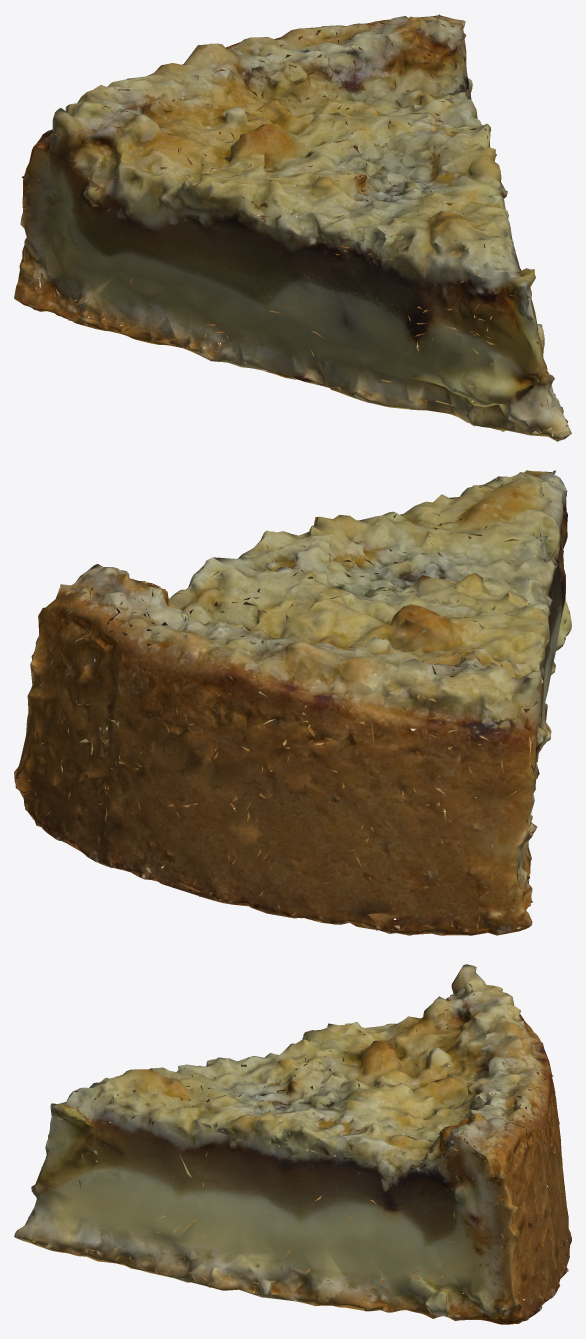
3 renders of one model, top to bottom at view 1: azimuth 30°, elevation 25°; view 2: azimuth 150°, elevation 25°; view 3: azimuth 270°, elevation 25°, orthographic. The views are drawn at different scales.
Parts seen in each view (by area): view 1: Model; view 2: Model; view 3: Model.
Part boxes in pixels (left/top/right/bottom): Model: left=14, top=14, right=571, bottom=441; Model: left=14, top=470, right=571, bottom=935; Model: left=14, top=964, right=571, bottom=1324.
Size of the model in its own units: 0.0907 by 0.0427 by 0.11.
Materials: 1 (1 with a texture image).
